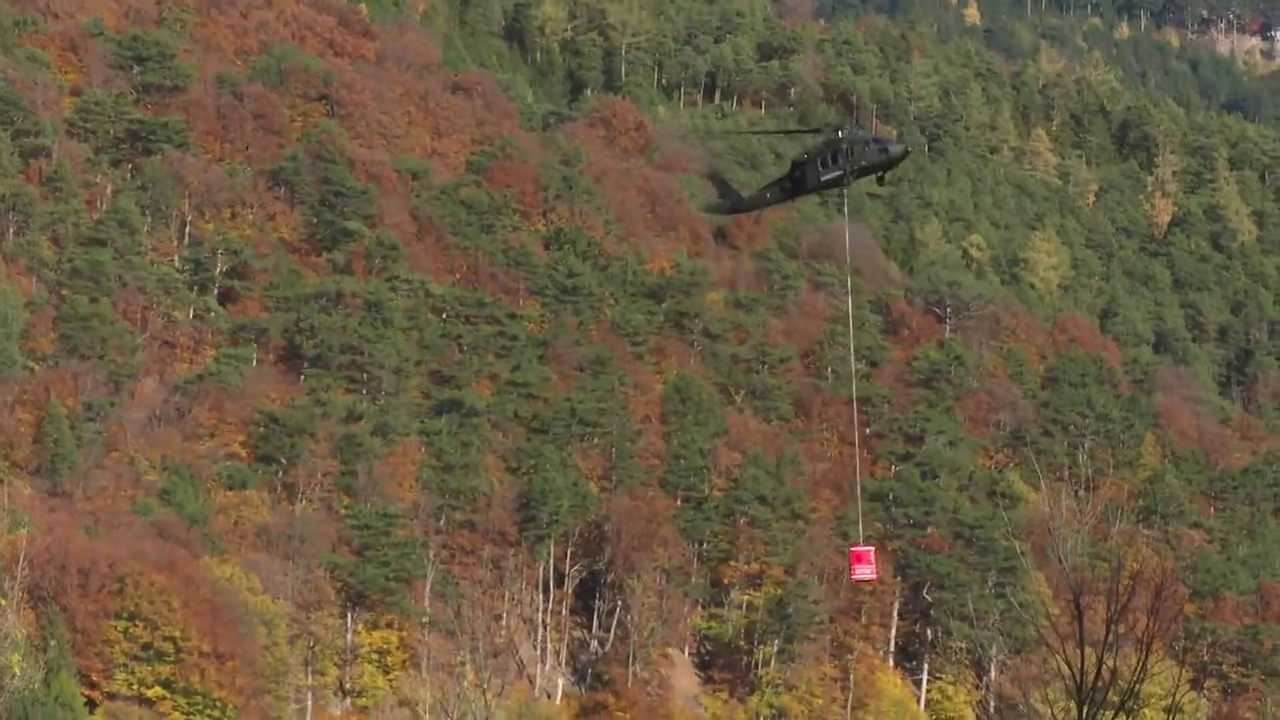heli: (699, 120, 915, 216)
